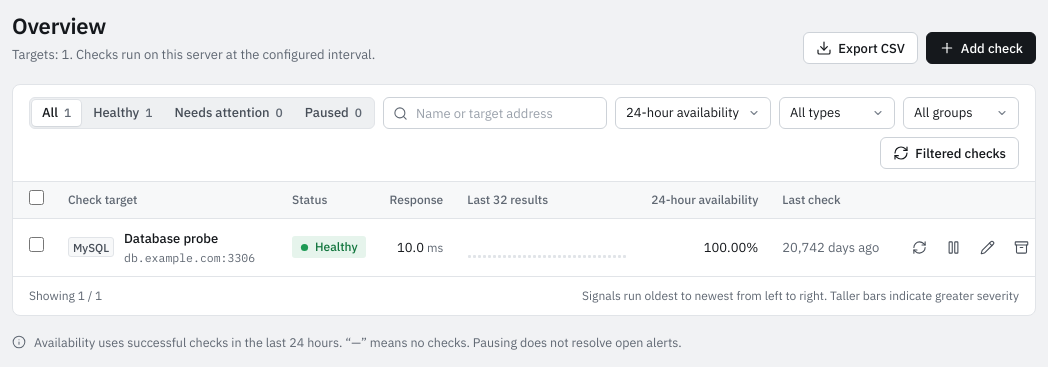
Test case: loads 30/90-day availability on the check page and keeps missing history empty
Select "30-day availability" in the dropdown named "Availability period": (693, 113) [615, 97, 771, 129]
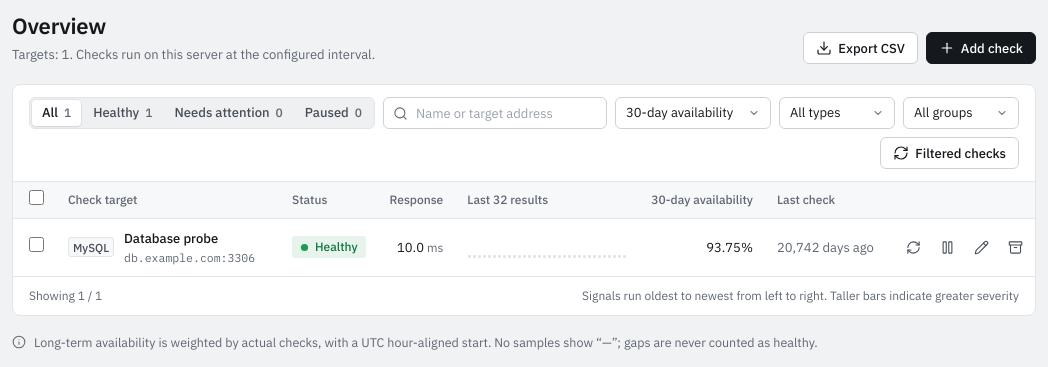
Expected: the text "93.75%" is shown, [639, 219, 765, 276]
Expected: the column heading "30-day availability" is shown, [639, 182, 765, 219]
Select "90-day availability" in the dropdown named "Availability period": (693, 113) [615, 97, 771, 129]
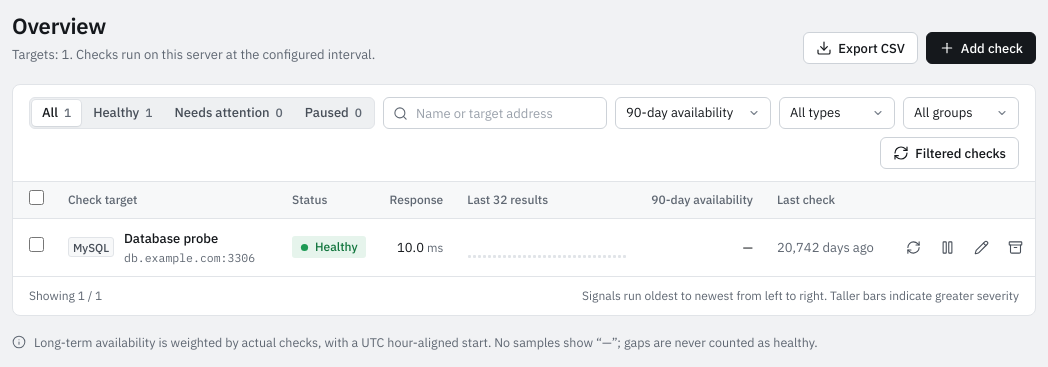
Expected: the text "100.00%" is not shown
Expected: the column heading "90-day availability" is shown, [639, 182, 765, 219]
Expected: the text "93.75%" is gone
